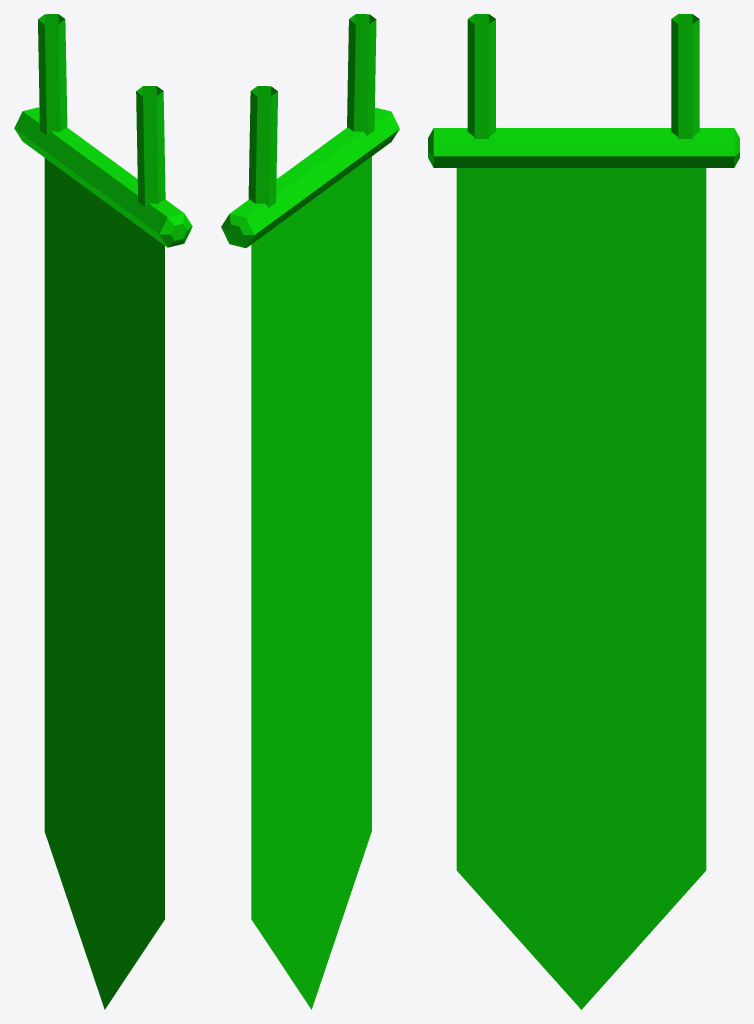
The model's file is Flags_Min_2.fbx.
The picture shows the model from 3 angles, left to right: view 1: azimuth 30°, elevation 25°; view 2: azimuth 150°, elevation 25°; view 3: azimuth 270°, elevation 25°; orthographic projection. The views are drawn at different scales.
Parts seen in each view (by area): view 1: Flag_2; view 2: Flag_2; view 3: Flag_2.
Boxes of the visible parts, <box> form: Flag_2: <box>14,14,192,1009</box>; Flag_2: <box>221,14,399,1009</box>; Flag_2: <box>428,14,739,1009</box>.
Bounding box in the file's own units: 6.41 × 174 × 49.83.
